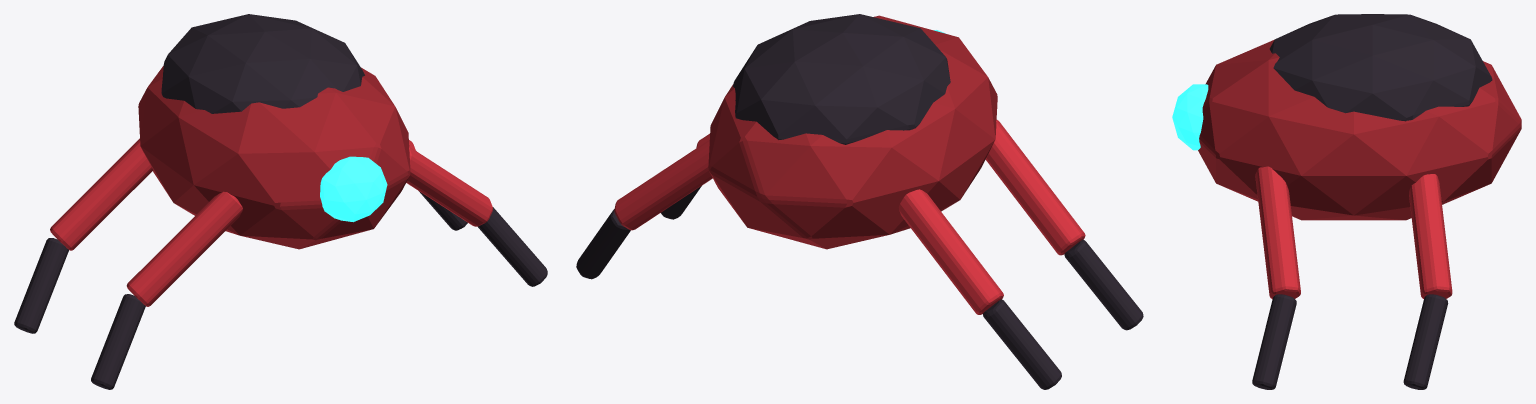
File: alien_walker.glb
The picture shows the model from 3 angles, left to right: view 1: azimuth 30°, elevation 25°; view 2: azimuth 150°, elevation 25°; view 3: azimuth 270°, elevation 25°; orthographic projection. The views are drawn at different scales.
Visible parts, largest first — view 1: Body, Carapace, UpperLeg, UpperLeg.001, Eye, UpperLeg.002, LowerLeg, LowerLeg.001, LowerLeg.002, LowerLeg.003; view 2: Body, Carapace, UpperLeg.001, UpperLeg, UpperLeg.003, LowerLeg.001, LowerLeg, LowerLeg.003; view 3: Body, Carapace, UpperLeg.002, UpperLeg.003, LowerLeg.003, LowerLeg.002, Eye.
Boxes of the visible parts, box(x1,y1,x2,y2) form: Body: box(138, 66, 410, 249); Carapace: box(161, 14, 364, 113); UpperLeg: box(126, 191, 242, 306); UpperLeg.001: box(50, 138, 153, 250); Eye: box(320, 156, 387, 222); UpperLeg.002: box(406, 146, 492, 226); LowerLeg: box(91, 294, 145, 389); LowerLeg.001: box(14, 238, 68, 333); LowerLeg.002: box(477, 207, 547, 286); LowerLeg.003: box(419, 191, 467, 230); Body: box(708, 15, 997, 249); Carapace: box(733, 14, 950, 144); UpperLeg.001: box(898, 189, 1003, 314); UpperLeg: box(985, 120, 1085, 255); UpperLeg.003: box(614, 140, 712, 230); LowerLeg.001: box(983, 299, 1061, 389); LowerLeg: box(1064, 239, 1143, 330); LowerLeg.003: box(576, 209, 630, 279); Body: box(1198, 39, 1521, 220); Carapace: box(1269, 14, 1492, 121); UpperLeg.002: box(1255, 166, 1300, 299); UpperLeg.003: box(1409, 174, 1452, 298); LowerLeg.003: box(1403, 294, 1448, 389); LowerLeg.002: box(1252, 294, 1296, 389); Eye: box(1172, 84, 1208, 150).
Bounding box in the file's own units: 1.37 × 0.7652 × 0.9236.
